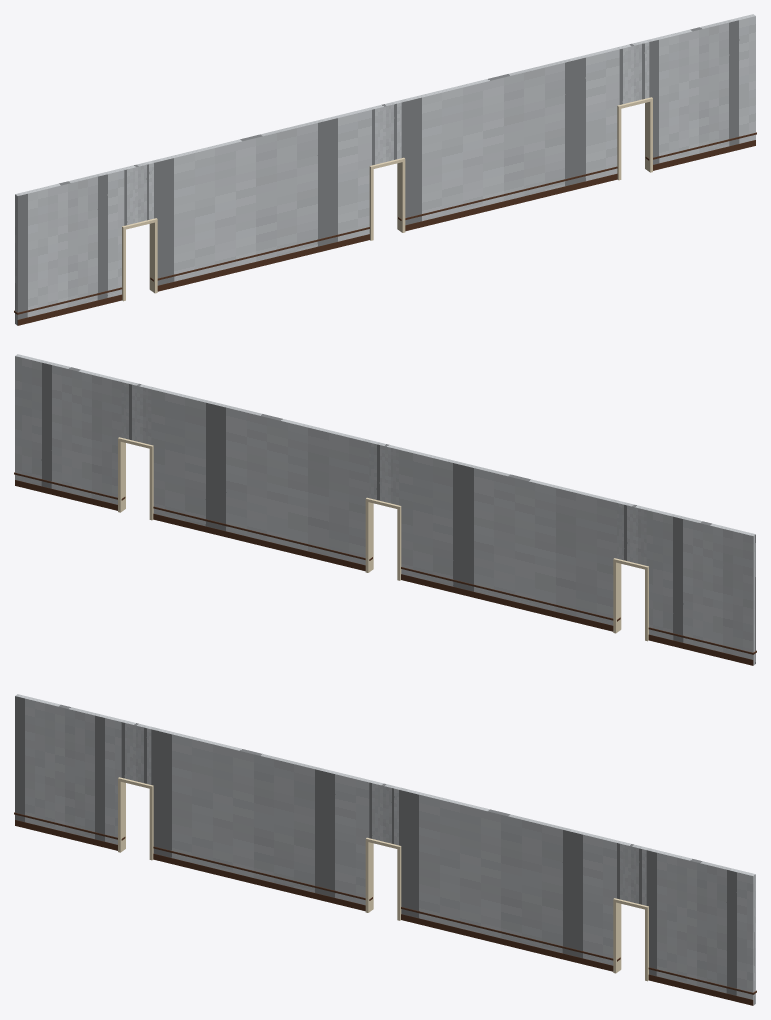
The model's file is high_mid.glb.
3 views of the same model, one above another, from view 1: azimuth 30°, elevation 25°; view 2: azimuth 150°, elevation 25°; view 3: azimuth 330°, elevation 25° (orthographic).
Parts seen in each view (by area): view 1: Box5, Box3, Box1, Box7, Box11, Box10, Box9, Box4, Box6, Box23, Box2, Box8 (+6 smaller); view 2: Box5, Box3, Box1, Box7, Box11, Box10, Box9, Box4, Box6, Box23, Box2, Box8 (+7 smaller); view 3: Box3, Box5, Box7, Box1, Box9, Box10, Box11, Box4, Box6, Box25, Box8, Box2 (+7 smaller).
Part boxes in pixels (<box>): Box5: <box>399,47,619,225</box>; Box3: <box>151,107,371,285</box>; Box1: <box>15,168,124,325</box>; Box7: <box>647,14,755,164</box>; Box11: <box>617,40,649,104</box>; Box10: <box>370,100,401,165</box>; Box9: <box>122,161,153,225</box>; Box4: <box>157,234,369,291</box>; Box6: <box>405,173,617,231</box>; Box23: <box>157,238,330,285</box>; Box2: <box>17,294,122,325</box>; Box8: <box>653,140,755,170</box>; Box5: <box>151,387,371,565</box>; Box3: <box>399,447,619,625</box>; Box1: <box>646,508,755,665</box>; Box7: <box>15,354,123,504</box>; Box11: <box>121,380,153,444</box>; Box10: <box>369,440,400,505</box>; Box9: <box>617,501,648,565</box>; Box4: <box>401,574,613,631</box>; Box6: <box>153,513,365,571</box>; Box23: <box>416,574,613,625</box>; Box2: <box>648,634,753,665</box>; Box8: <box>15,480,117,510</box>; Box3: <box>151,727,371,905</box>; Box5: <box>399,787,619,965</box>; Box7: <box>646,848,755,1005</box>; Box1: <box>15,694,123,844</box>; Box9: <box>121,720,153,784</box>; Box10: <box>369,780,400,845</box>; Box11: <box>617,841,648,905</box>; Box4: <box>153,853,365,911</box>; Box6: <box>401,914,613,971</box>; Box25: <box>416,914,613,965</box>; Box8: <box>648,974,753,1005</box>; Box2: <box>15,820,117,850</box>.
Bounding box in the file's own units: 23.89 × 4 × 0.3.
Materials: 3 (1 with a texture image).
